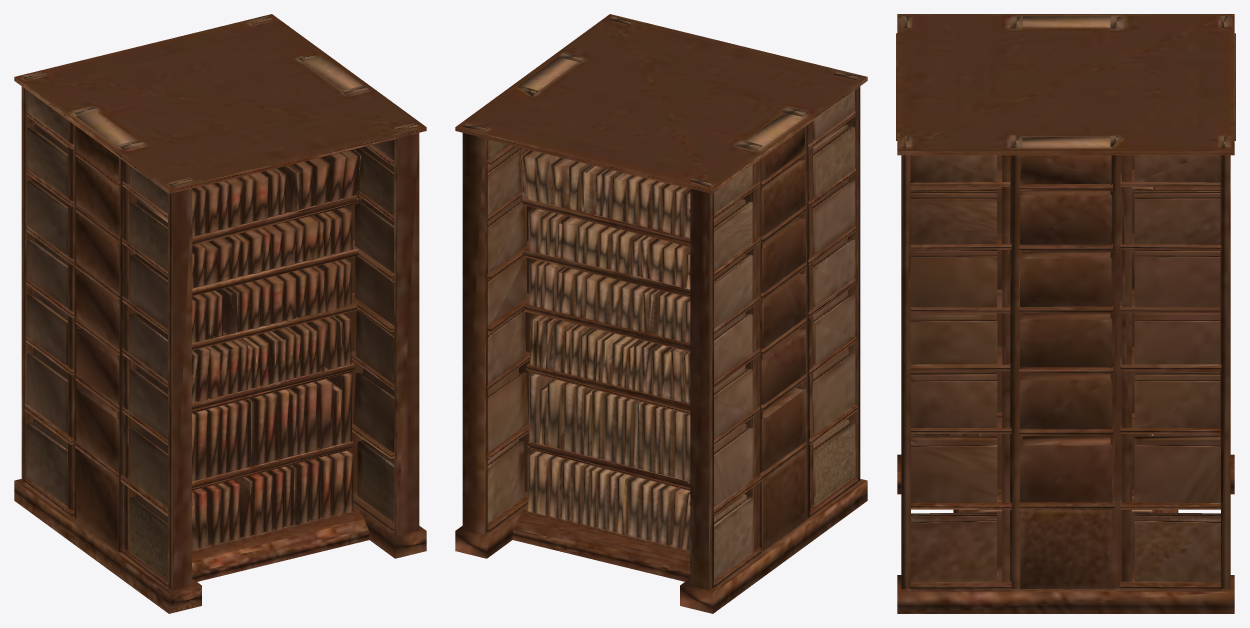
Rendered from bookshelf.glb.
3 renders of one model, left to right at view 1: azimuth 30°, elevation 25°; view 2: azimuth 150°, elevation 25°; view 3: azimuth 270°, elevation 25°, orthographic. The views are drawn at different scales.
Size of the model in its own units: 0.601 by 0.9487 by 0.6294.
1 material, 1 textured.
